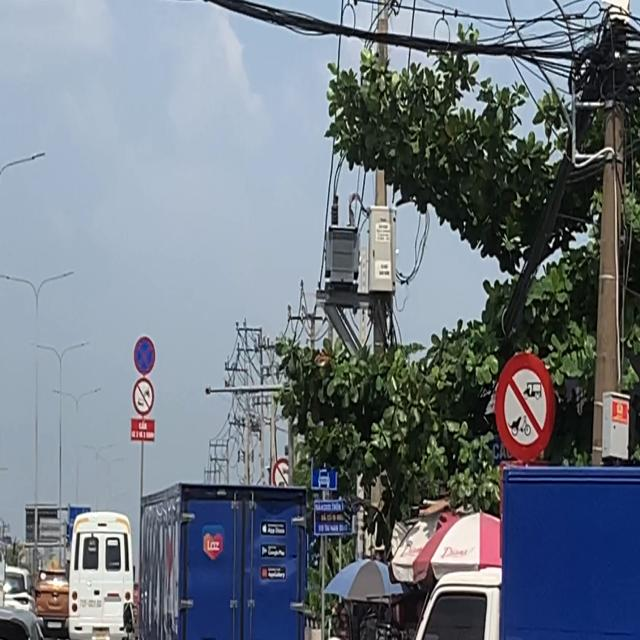Cam con lai: (494, 351, 556, 464), (131, 377, 155, 418)
Cam dung va do: (133, 336, 156, 376)
